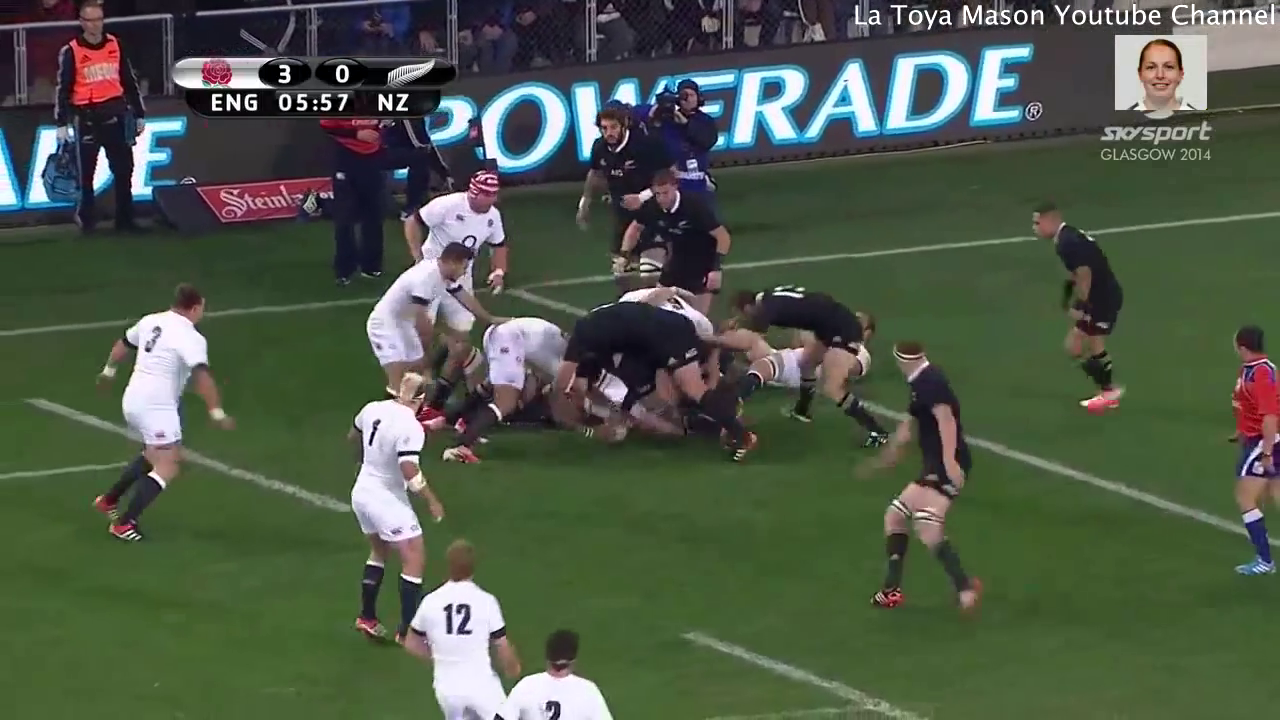player: (73, 280, 239, 551), (865, 330, 989, 624), (328, 360, 447, 664), (549, 293, 760, 454), (726, 276, 898, 455), (349, 236, 502, 423), (1020, 197, 1140, 420), (397, 532, 534, 720), (433, 314, 583, 473), (570, 100, 678, 299), (1208, 313, 1280, 590), (387, 160, 517, 311), (601, 166, 732, 314), (499, 619, 616, 720)
